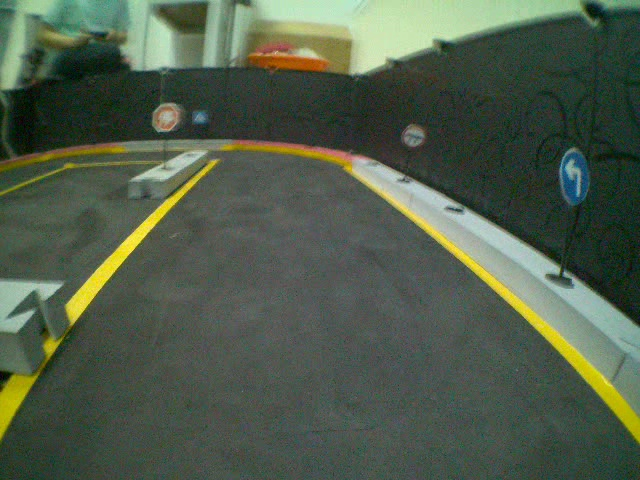Check: (401, 122, 432, 150)
Stop: (148, 100, 183, 134)
turn: (556, 145, 600, 209)
